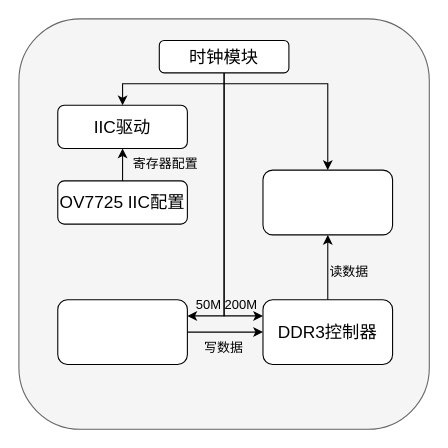
The diagram is 448 pixels wide and 448 high, and some of its shapes have lost their labels. Here are the shapes that lost their labels. From the top down, the box of each, then its label:
(262, 169, 393, 235): HDMI TOP
(57, 299, 187, 364): 图像采集模块
